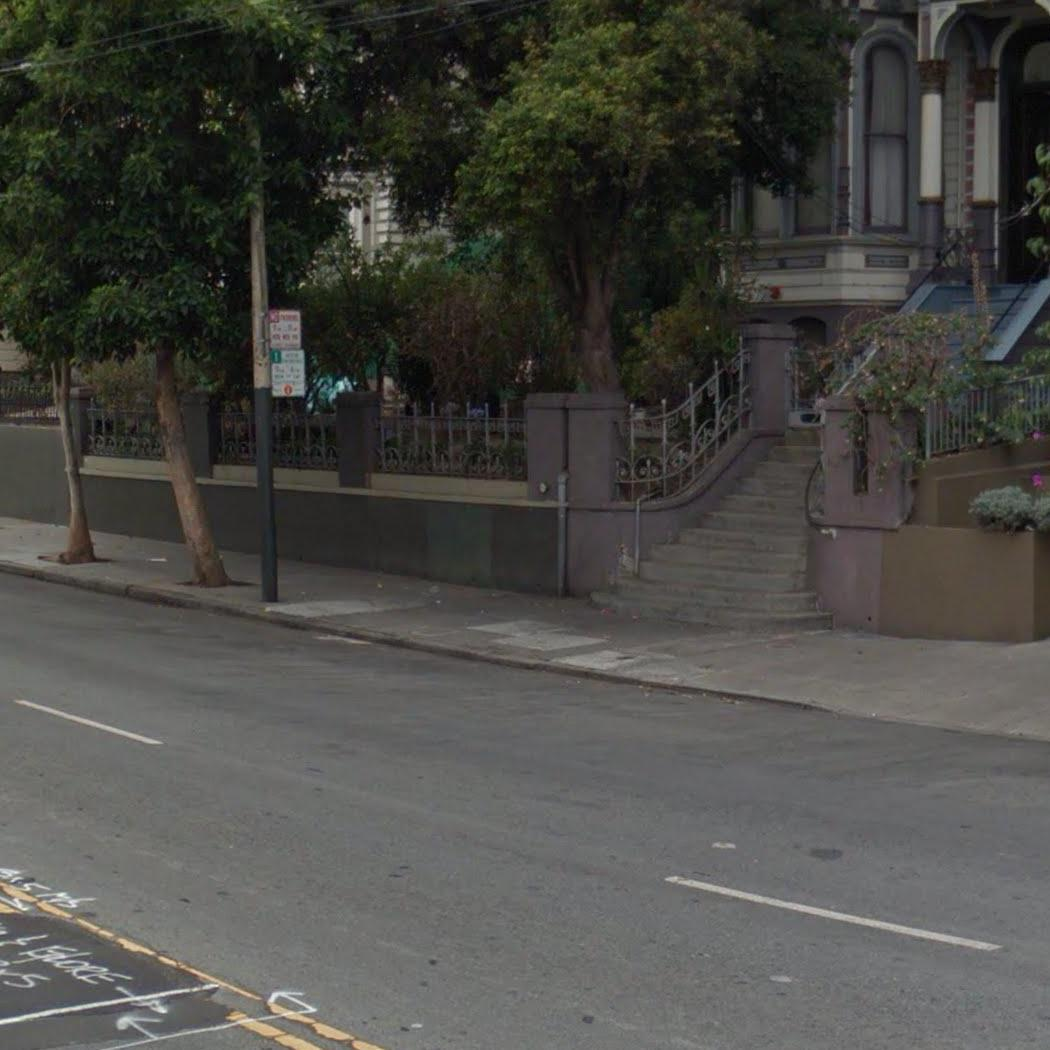1 Hour Parking: (267, 347, 308, 399)
No Parking: (265, 309, 305, 352)
